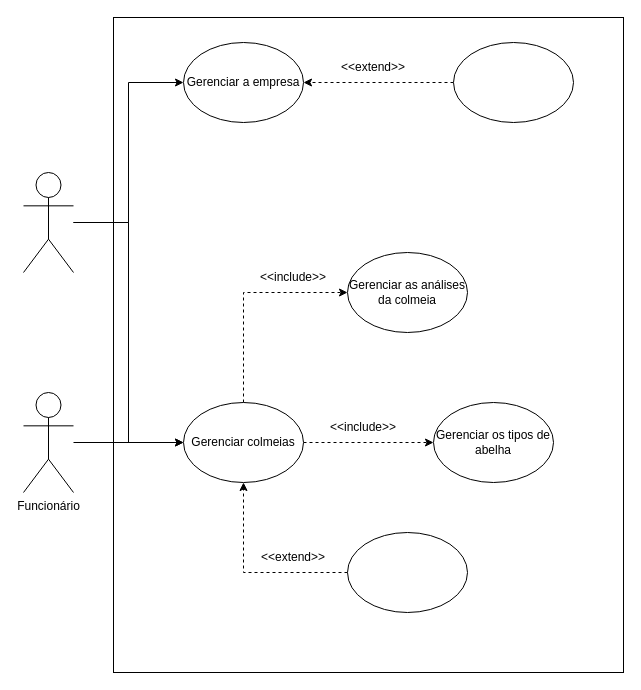
The diagram is 641 pixels wide and 690 high, and some of its shapes have lost their labels. The shapes that lost their labels are listed below. From the top down, each one's centre as x and y in pixels, then its label:
At point 513,82: "Gerenciar os funcionários".
At point 48,222: "Apicultor".
At point 407,572: "Gerenciar periféricos (câmera/sensor)".
